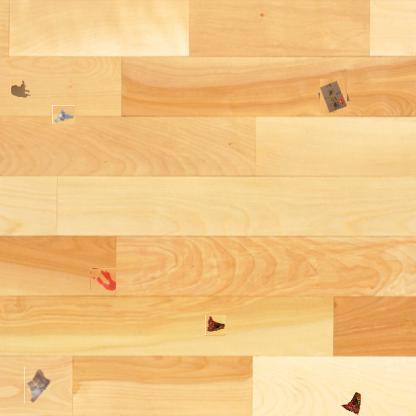dirty: (318, 80, 349, 112), (24, 367, 51, 403), (338, 390, 364, 416), (205, 315, 226, 336), (52, 105, 75, 124)
liquid: (90, 268, 116, 290), (10, 78, 30, 100)
